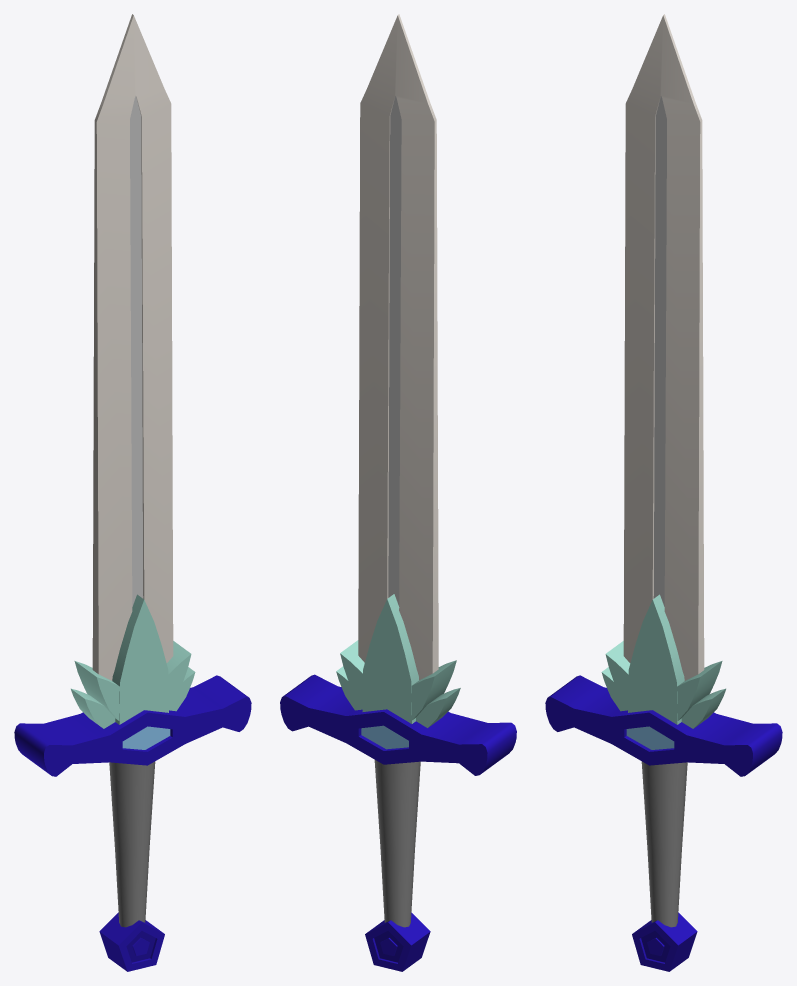
The model's file is mid sword.fbx.
3 views of the same model, side by side, from view 1: azimuth 30°, elevation 25°; view 2: azimuth 150°, elevation 25°; view 3: azimuth 330°, elevation 25° (orthographic).
Visible parts, largest first — view 1: Cylinder; view 2: Cylinder; view 3: Cylinder.
Boxes of the visible parts, box(x1,y1,x2,y2) form: Cylinder: box(14, 14, 251, 971); Cylinder: box(280, 14, 516, 971); Cylinder: box(545, 14, 782, 971).
Bounding box in the file's own units: 80.41 × 350 × 19.72.
1 material, 1 textured.
